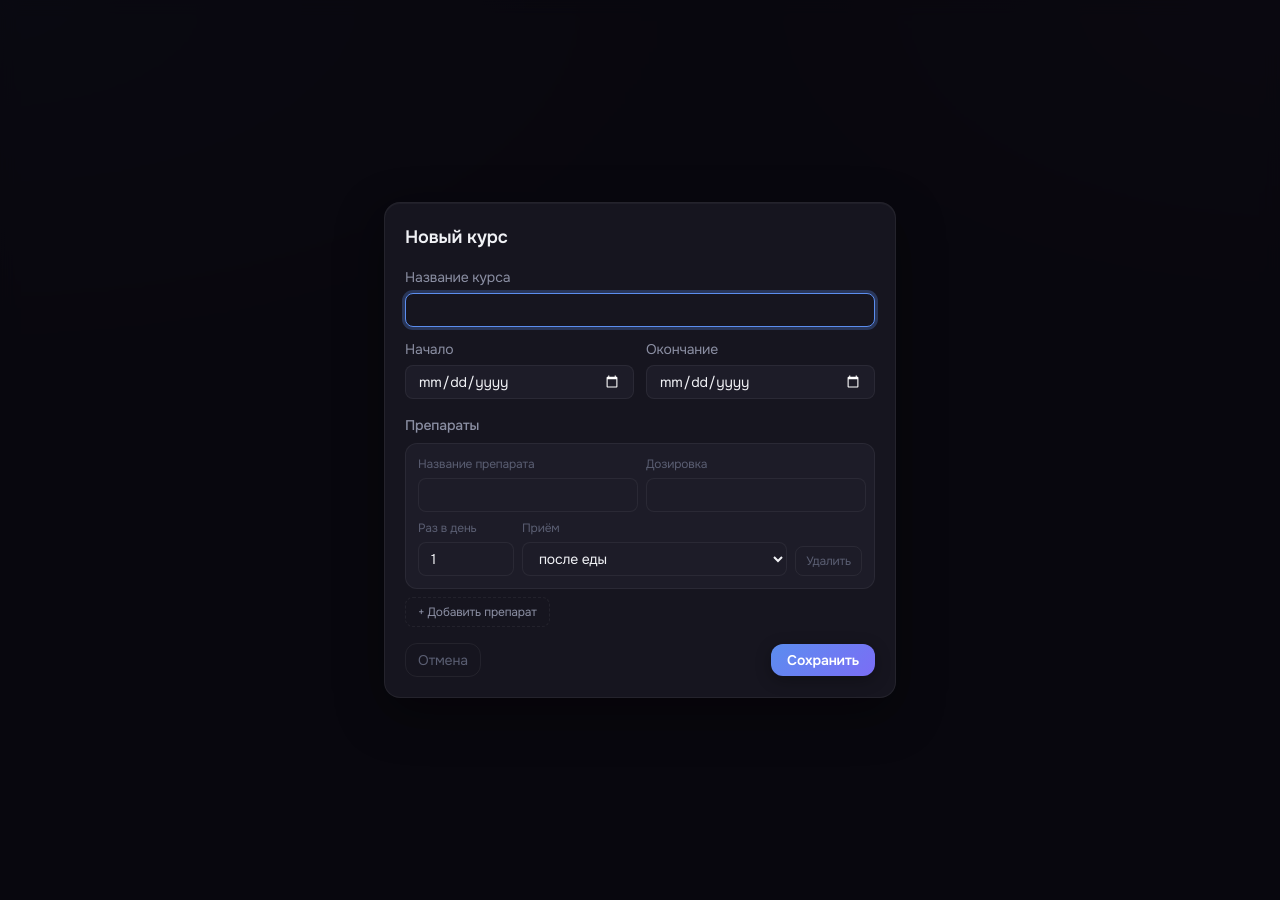
Test: endDate раньше startDate отклоняется
Type "Курс" into the field labelled "Название курса" at coordinates (640, 310), box [405,293,875,327]
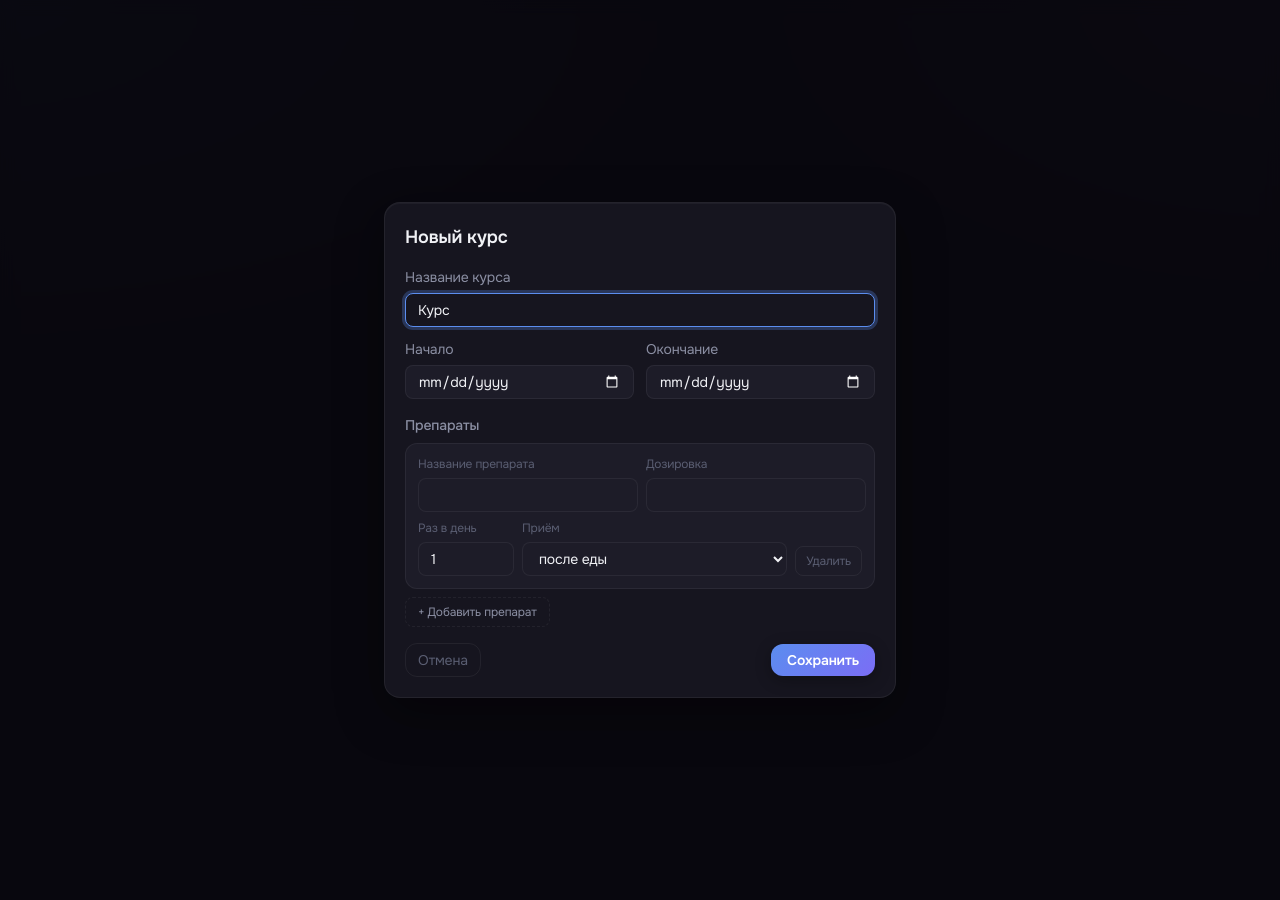
Type "2026-10-07" into the date field labelled "Начало" at coordinates (520, 382), box [405,365,634,399]
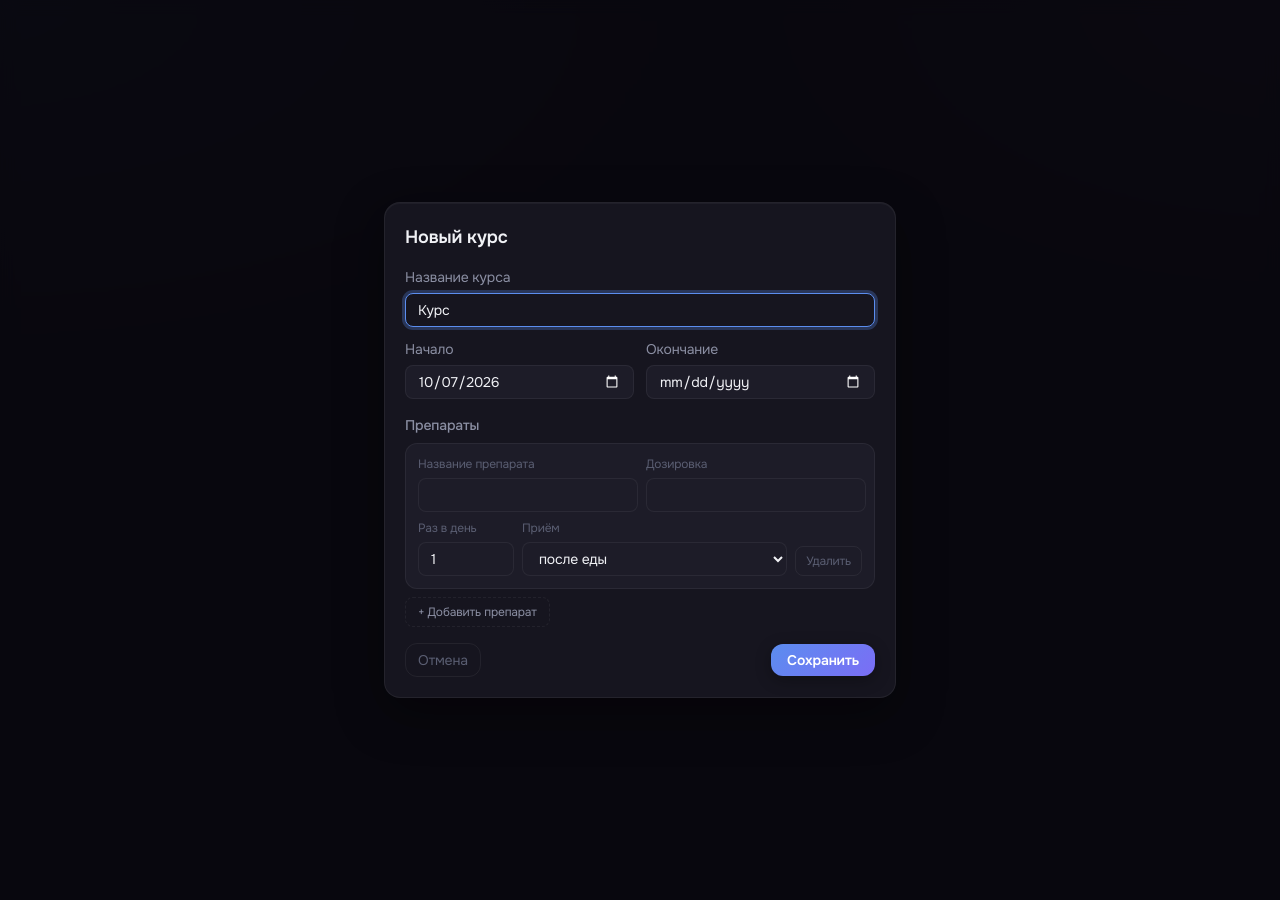
Type "2026-10-01" into the date field labelled "Окончание" at coordinates (760, 382), box [646,365,875,399]
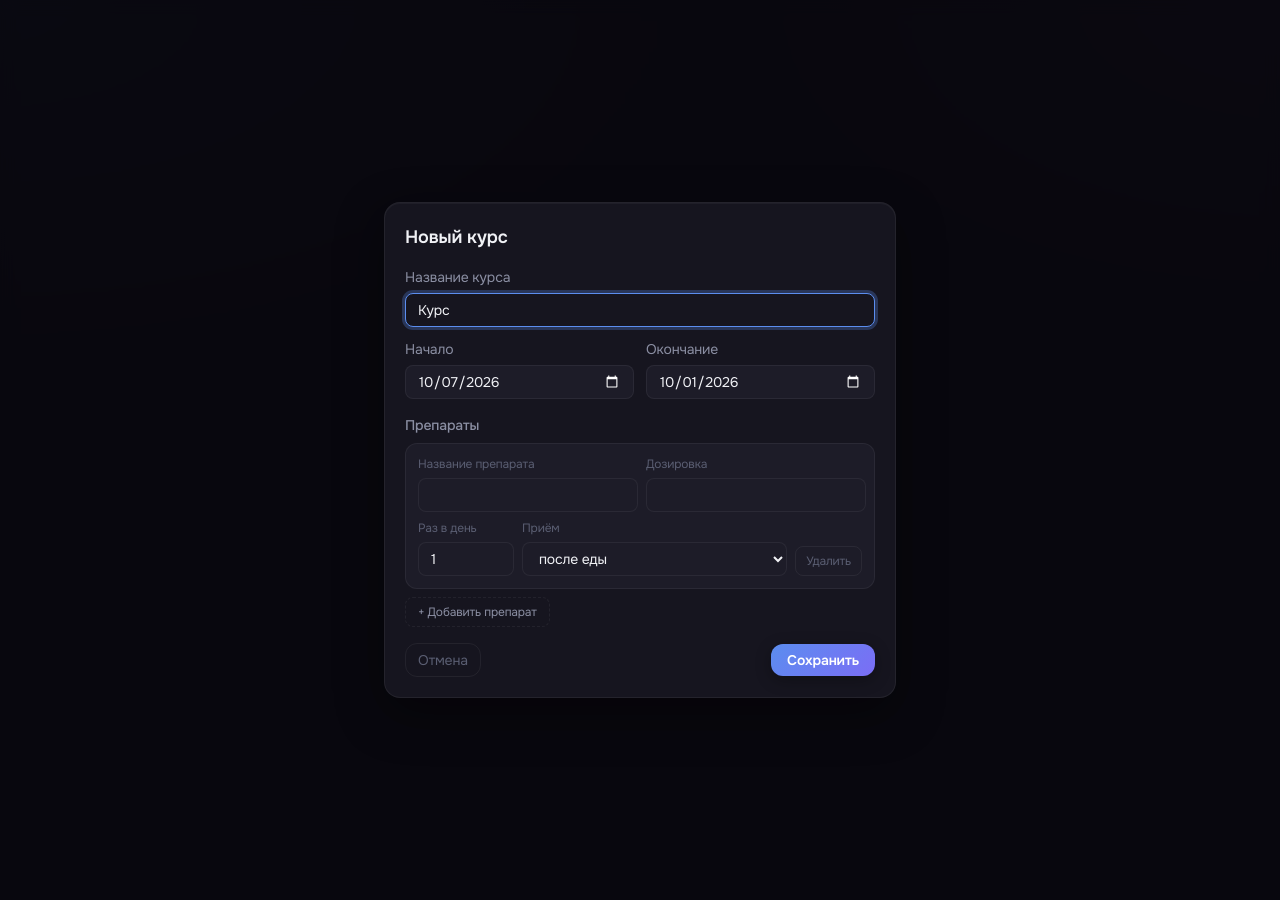
Click the button "Сохранить" at coordinates (823, 660), box [771,644,875,676]
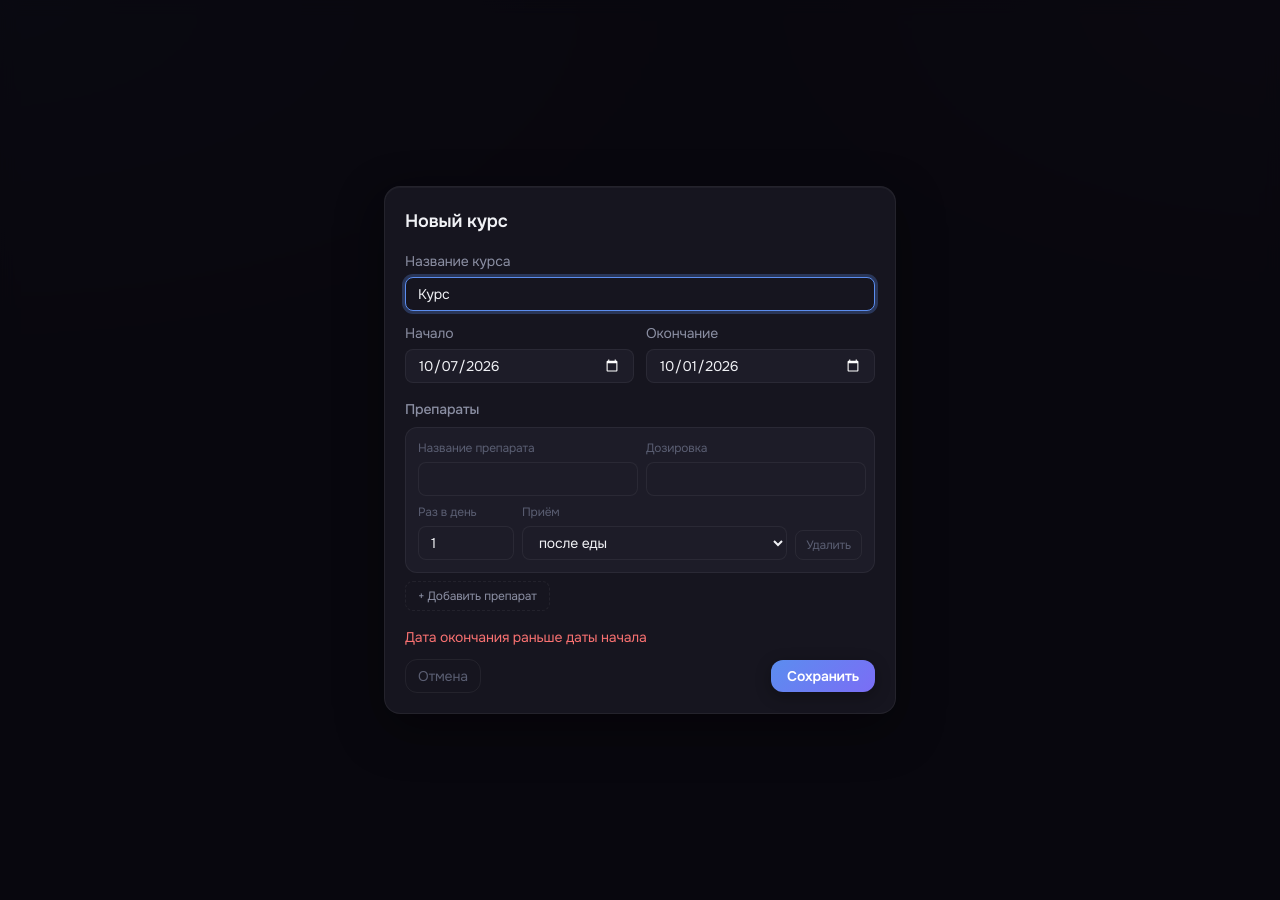
Now the text "Дата окончания раньше даты начала" is shown, box [405,628,646,646]
